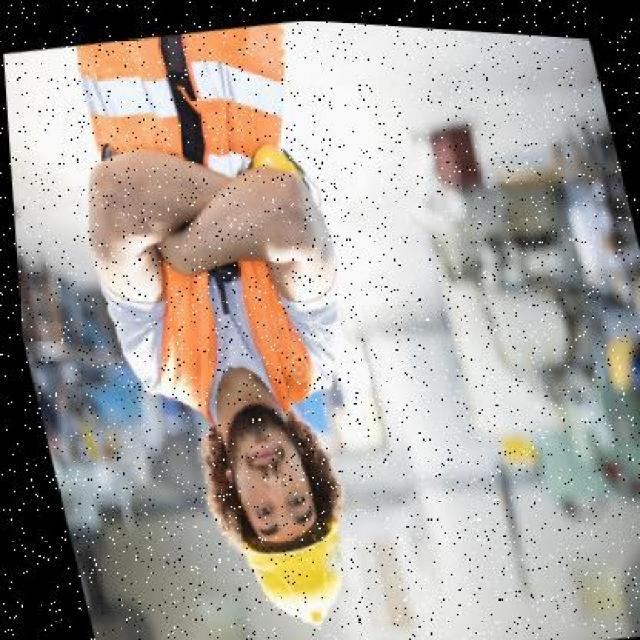helmet: (222, 497, 364, 633)
vest: (54, 8, 362, 443)
